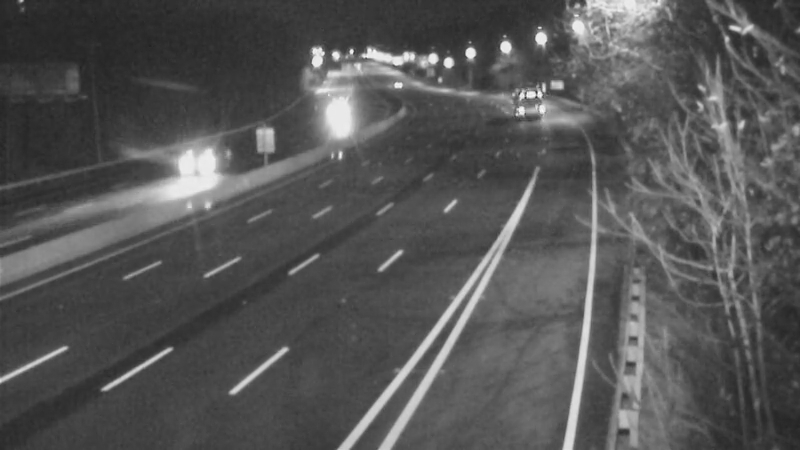vehicle: (151, 124, 231, 204), (373, 58, 423, 108), (493, 71, 543, 121), (307, 88, 357, 138)
